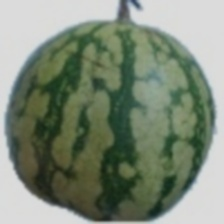watermelon: (13, 42, 214, 221)
